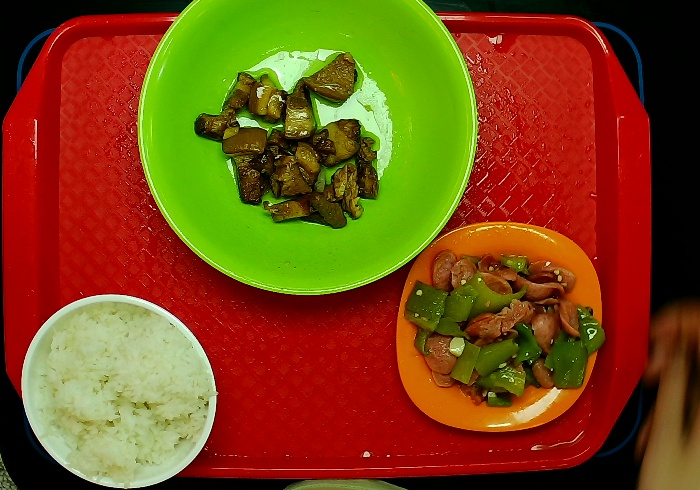YKMZ-Fan_Wan: (14, 268, 231, 490)
YKMZ-Ju_Se_Fang_Die: (387, 208, 631, 446)
YKMZ-Lv_Se_Tang_Wan: (128, 1, 488, 302)
